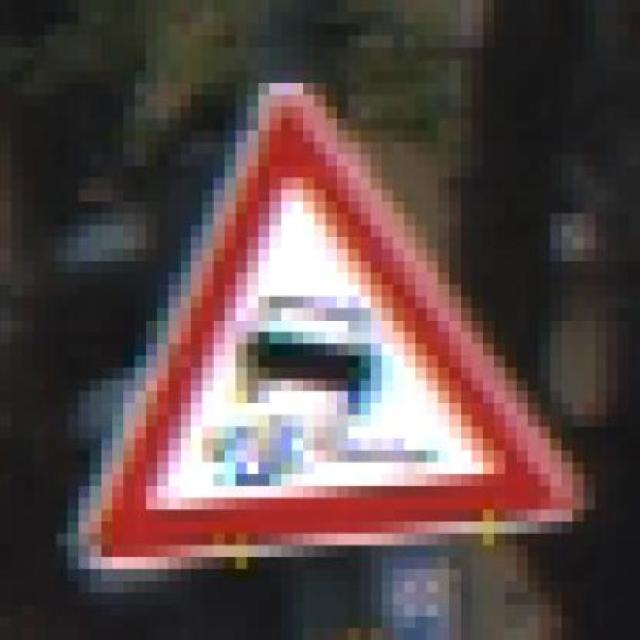Slippery Road Ahead: (33, 71, 618, 569)
